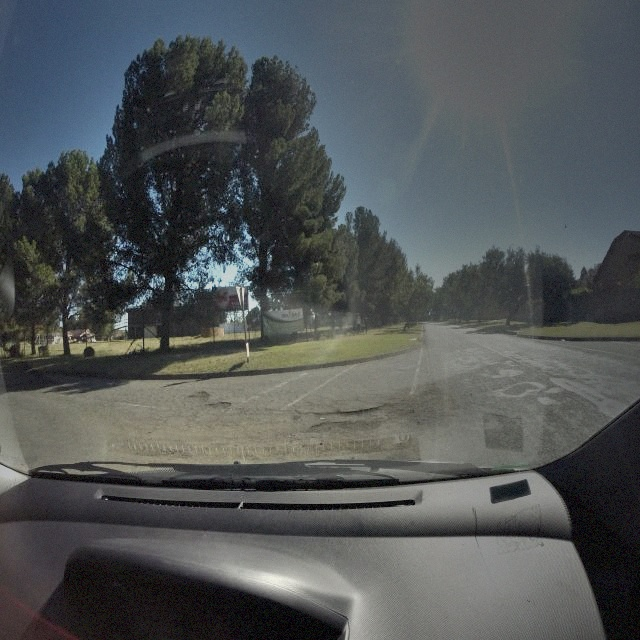pothole: (306, 418, 375, 433), (322, 407, 381, 416), (203, 402, 233, 412), (188, 390, 211, 400)
